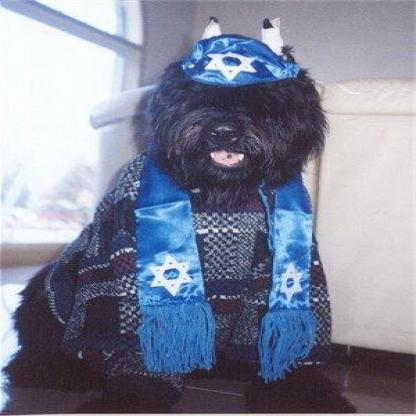Bouvier_des_Flandres: (1, 10, 355, 413)
